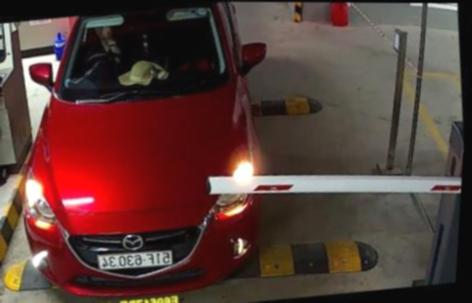License_Plate: (88, 248, 176, 278)
